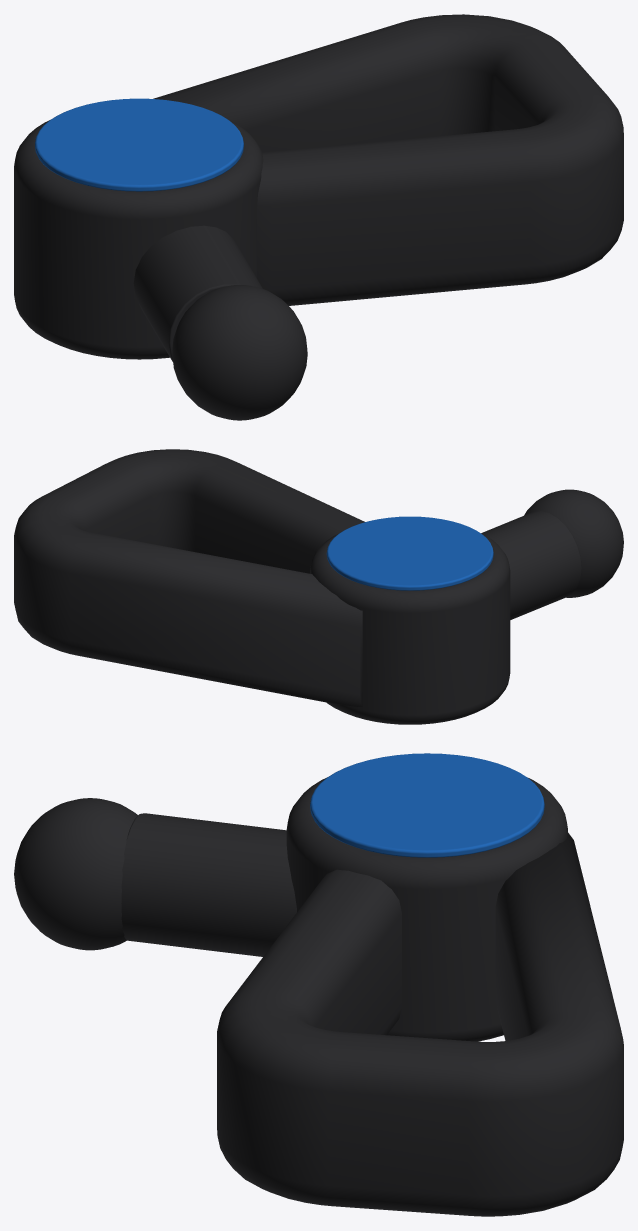
The model's file is theragun-pro-plus_v003.glb.
The picture shows the model from 3 angles, top to bottom: view 1: azimuth 30°, elevation 25°; view 2: azimuth 150°, elevation 25°; view 3: azimuth 270°, elevation 25°; orthographic projection. The views are drawn at different scales.
Parts seen in each view (by area): view 1: theragun-pro-plus_body, theragun-pro-plus_body.001, theragun-pro-plus_blue, theragun-pro-plus_body.003, theragun-pro-plus_body.002; view 2: theragun-pro-plus_body, theragun-pro-plus_body.001, theragun-pro-plus_blue, theragun-pro-plus_body.002, theragun-pro-plus_body.003; view 3: theragun-pro-plus_body, theragun-pro-plus_body.001, theragun-pro-plus_body.002, theragun-pro-plus_blue, theragun-pro-plus_body.003.
Part boxes in pixels (left/top/right/bottom): theragun-pro-plus_body: left=153, top=14, right=623, bottom=305; theragun-pro-plus_body.001: left=14, top=120, right=263, bottom=359; theragun-pro-plus_blue: left=35, top=98, right=243, bottom=191; theragun-pro-plus_body.003: left=172, top=285, right=307, bottom=420; theragun-pro-plus_body.002: left=133, top=225, right=262, bottom=362; theragun-pro-plus_body: left=14, top=449, right=364, bottom=706; theragun-pro-plus_body.001: left=310, top=533, right=510, bottom=724; theragun-pro-plus_blue: left=326, top=516, right=493, bottom=590; theragun-pro-plus_body.002: left=481, top=511, right=581, bottom=619; theragun-pro-plus_body.003: left=524, top=489, right=623, bottom=597; theragun-pro-plus_body: left=217, top=832, right=623, bottom=1216; theragun-pro-plus_body.001: left=286, top=777, right=567, bottom=1041; theragun-pro-plus_body.002: left=121, top=813, right=296, bottom=956; theragun-pro-plus_blue: left=310, top=753, right=544, bottom=857; theragun-pro-plus_body.003: left=14, top=798, right=137, bottom=950.
Bounding box in the file's own units: 0.2479 × 0.0725 × 0.2081.
